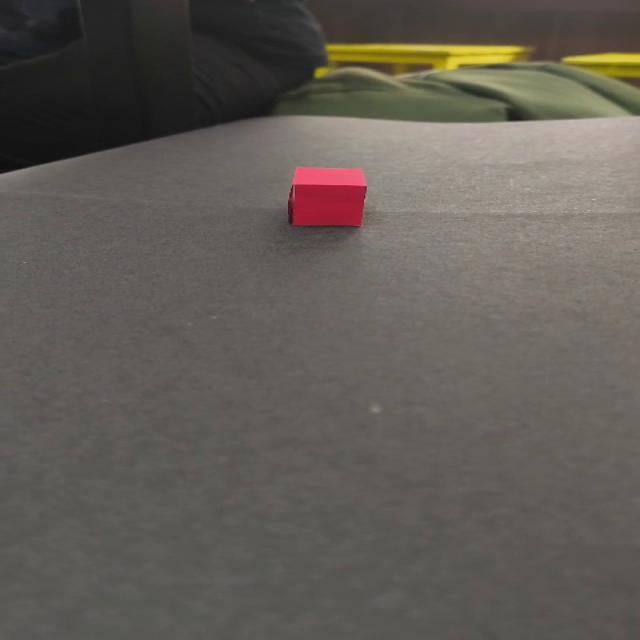red block: (286, 166, 366, 227)
